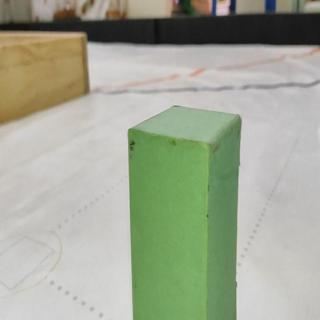greenbox: (125, 102, 241, 320)
